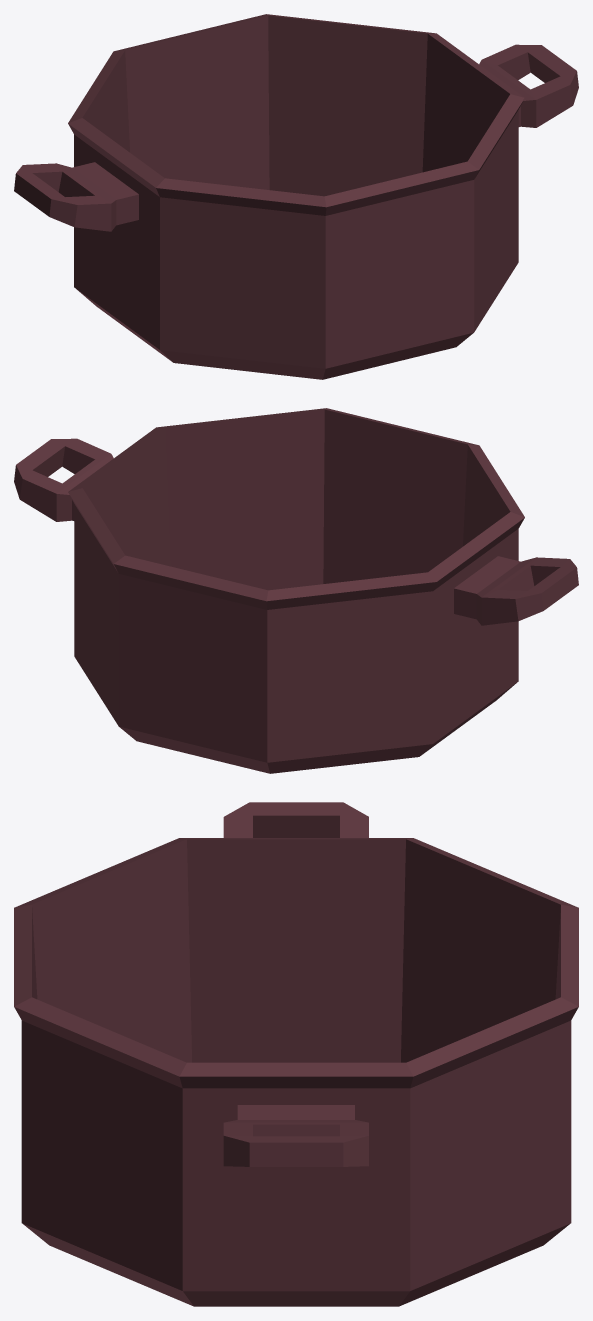
Rendered from pot-medium.fbx.
3 views of the same model, one above another, from view 1: azimuth 30°, elevation 25°; view 2: azimuth 150°, elevation 25°; view 3: azimuth 270°, elevation 25° (orthographic). The views are drawn at different scales.
Visible parts, largest first — view 1: pot-medium; view 2: pot-medium; view 3: pot-medium.
Boxes of the visible parts, x1=… form: pot-medium: x1=14, y1=14, x2=578, y2=379; pot-medium: x1=14, y1=408, x2=578, y2=773; pot-medium: x1=14, y1=802, x2=578, y2=1306.
Bounding box in the file's own units: 0.3136 × 0.1072 × 0.2184.
